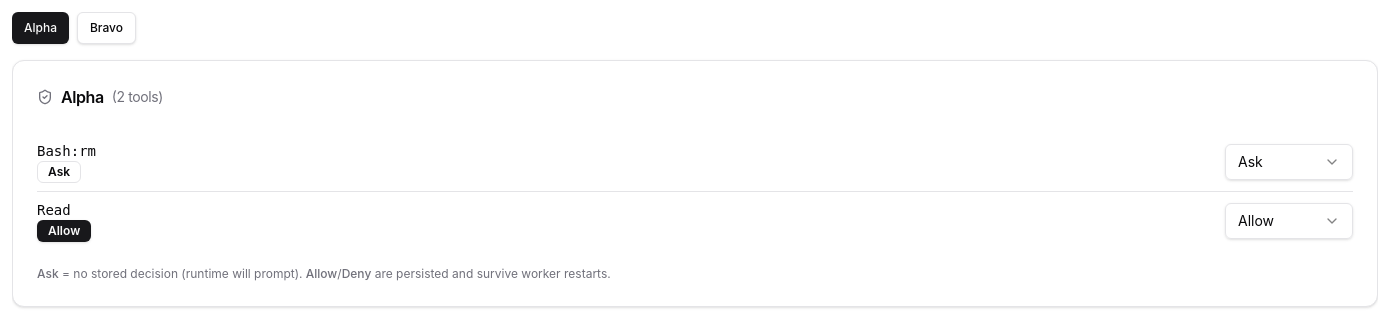
Test case: PermissionsView › switches agent on click
The image size is (1378, 325).
What coordinates should you click on to do the following:
click the button "Bravo"
I would click on:
 (106, 28)
Its box is [77, 12, 136, 44].
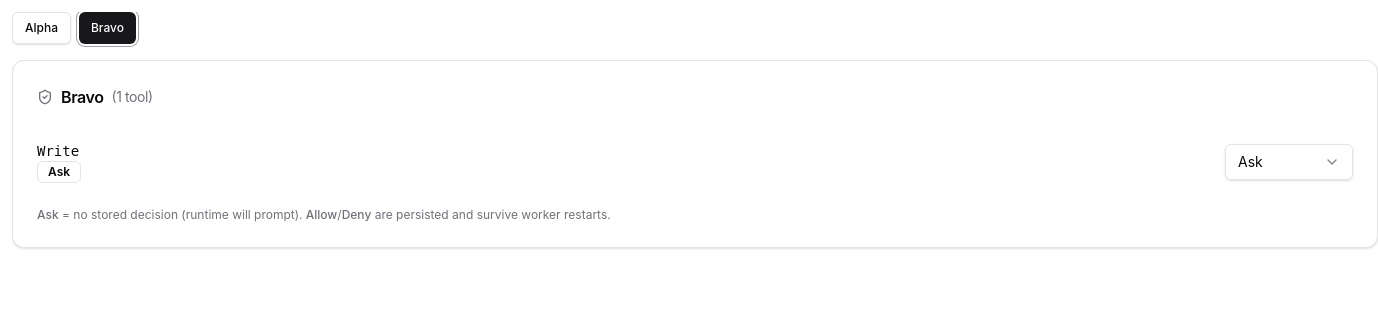
expect the text "Write" is shown: met, box [37, 141, 81, 161]
